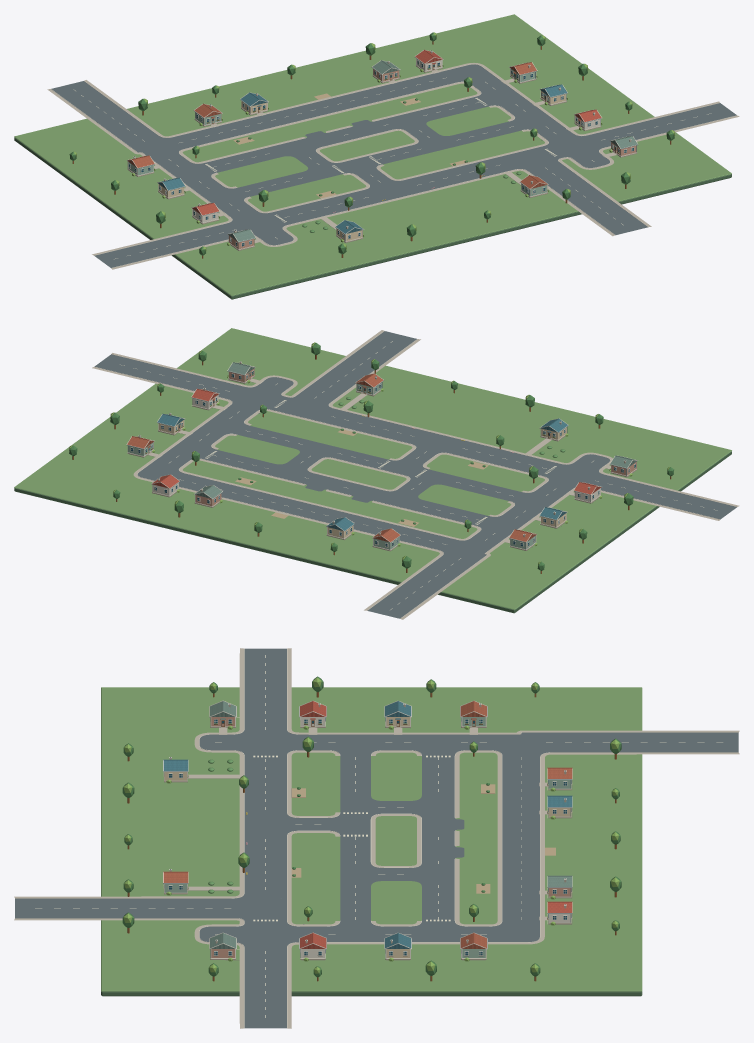
The model's file is expanded-ground.glb.
3 views of the same model, one above another, from view 1: azimuth 30°, elevation 25°; view 2: azimuth 150°, elevation 25°; view 3: azimuth 270°, elevation 25° (orthographic). The views are drawn at different scales.
Parts seen in each view (by area): view 1: ExpandedGround, RenewedTownRoads, StreetFacingHouse8, StreetFacingHouse9, StreetFacingHouse10, StreetFacingHouse11, StreetFacingHouse13, StreetFacingHouse12, StreetFacingHouse0, StreetFacingHouse1, StreetFacingHouse3, StreetFacingHouse2 (+1 smaller); view 2: ExpandedGround, RenewedTownRoads, StreetFacingHouse13, StreetFacingHouse8, StreetFacingHouse11, StreetFacingHouse9, StreetFacingHouse10, StreetFacingHouse12; view 3: ExpandedGround, RenewedTownRoads, StreetFacingHouse4, StreetFacingHouse0, StreetFacingHouse7, StreetFacingHouse2, StreetFacingHouse5, StreetFacingHouse6, StreetFacingHouse1, StreetFacingHouse3.
Boxes of the visible parts, <box> form: ExpandedGround: <box>14,14,731,299</box>; RenewedTownRoads: <box>47,63,739,269</box>; StreetFacingHouse8: <box>193,103,222,126</box>; StreetFacingHouse9: <box>240,92,268,115</box>; StreetFacingHouse10: <box>414,49,443,72</box>; StreetFacingHouse11: <box>371,60,400,83</box>; StreetFacingHouse13: <box>335,220,364,242</box>; StreetFacingHouse12: <box>520,175,548,197</box>; StreetFacingHouse0: <box>126,155,154,176</box>; StreetFacingHouse1: <box>157,177,185,199</box>; StreetFacingHouse3: <box>227,229,255,250</box>; StreetFacingHouse2: <box>191,203,219,224</box>; ExpandedGround: <box>14,328,731,613</box>; RenewedTownRoads: <box>92,330,739,619</box>; StreetFacingHouse13: <box>539,418,568,441</box>; StreetFacingHouse8: <box>372,528,400,551</box>; StreetFacingHouse11: <box>193,484,222,507</box>; StreetFacingHouse9: <box>325,517,354,539</box>; StreetFacingHouse10: <box>151,474,179,497</box>; StreetFacingHouse12: <box>355,373,383,396</box>; ExpandedGround: <box>101,676,642,996</box>; RenewedTownRoads: <box>14,648,739,1028</box>; StreetFacingHouse4: <box>460,932,487,959</box>; StreetFacingHouse0: <box>460,700,487,727</box>; StreetFacingHouse7: <box>209,932,236,959</box>; StreetFacingHouse2: <box>299,700,326,727</box>; StreetFacingHouse5: <box>384,932,411,959</box>; StreetFacingHouse6: <box>299,932,326,959</box>; StreetFacingHouse1: <box>384,700,411,727</box>; StreetFacingHouse3: <box>209,700,236,727</box>.
Bounding box in the file's own units: 190 × 6.17 × 153.
Materials: 33 (4 with a texture image).
